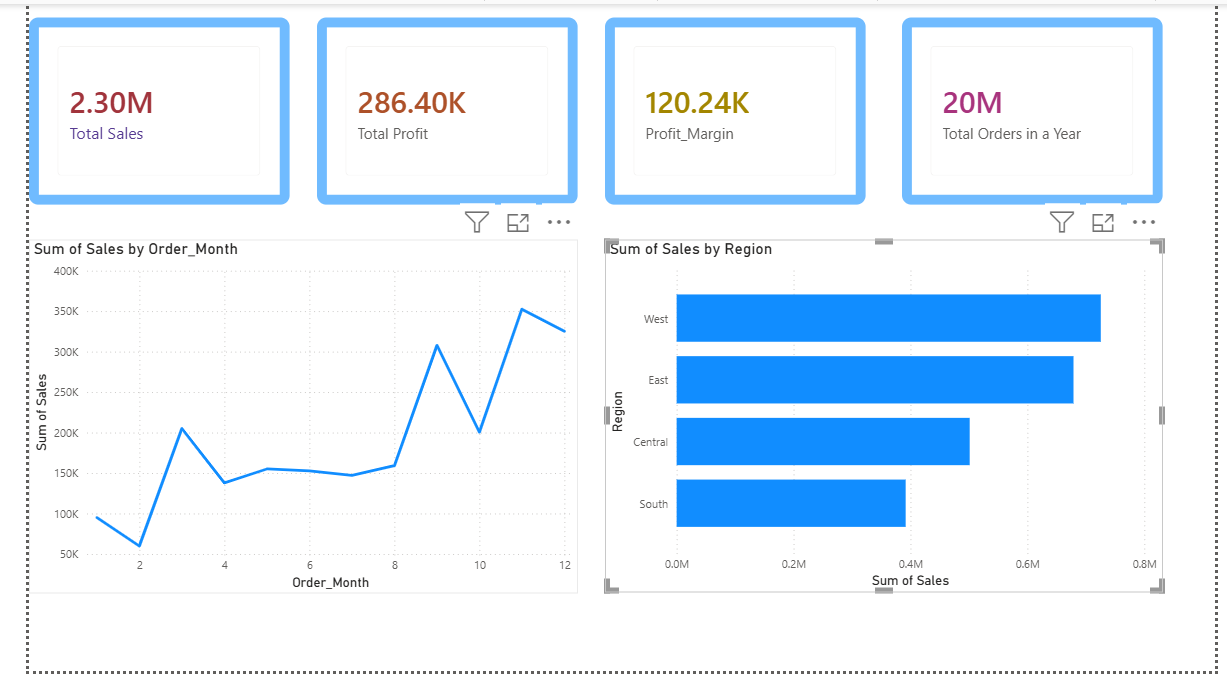

The page's visual inventory and layout, read from the dashboard file:
{"tool":"powerbi","page":{"name":"Page 1","canvas":[1280,720],"ordinal":0},"visuals":[{"type":"cardVisual","fields":{"Data":["Sum(superstore_clean.Order_Year)"]},"box":[942,14.4,281.5,202.1],"z":2},{"type":"cardVisual","fields":{"Data":["Sum(superstore_clean.Profit_Margin)"]},"box":[622.6,14.4,281.5,202.1],"z":4},{"type":"cardVisual","fields":{"Data":["Sum(superstore_clean.Profit)"]},"box":[310.4,14.4,281.5,202.1],"z":5},{"type":"cardVisual","fields":{"Data":["Sum(superstore_clean.Sales)"]},"box":[0,14.4,281.5,202.1],"z":6},{"type":"lineChart","fields":{"Category":["superstore_clean.Order_Month"],"Y":["Sum(superstore_clean.Sales)"]},"box":[0,254.2,592.6,382.1],"z":7},{"type":"clusteredBarChart","fields":{"Category":["superstore_clean.Region"],"Y":["Sum(superstore_clean.Sales)"]},"box":[622.6,254.4,600.9,380.8],"z":8}]}

Visuals, with their boxes in screenshot pixels (x1, y1, x2, y2), scaled from the page's 1280x720 canvas onto the 1227x679 screenshot:
cardVisual - Sum(superstore_clean.Order_Year): detection(903, 14, 1173, 204)
cardVisual - Sum(superstore_clean.Profit_Margin): detection(597, 14, 867, 204)
cardVisual - Sum(superstore_clean.Profit): detection(298, 14, 567, 204)
cardVisual - Sum(superstore_clean.Sales): detection(0, 14, 270, 204)
lineChart - superstore_clean.Order_Month x Sum(superstore_clean.Sales): detection(0, 240, 568, 600)
clusteredBarChart - superstore_clean.Region x Sum(superstore_clean.Sales): detection(597, 240, 1173, 599)
